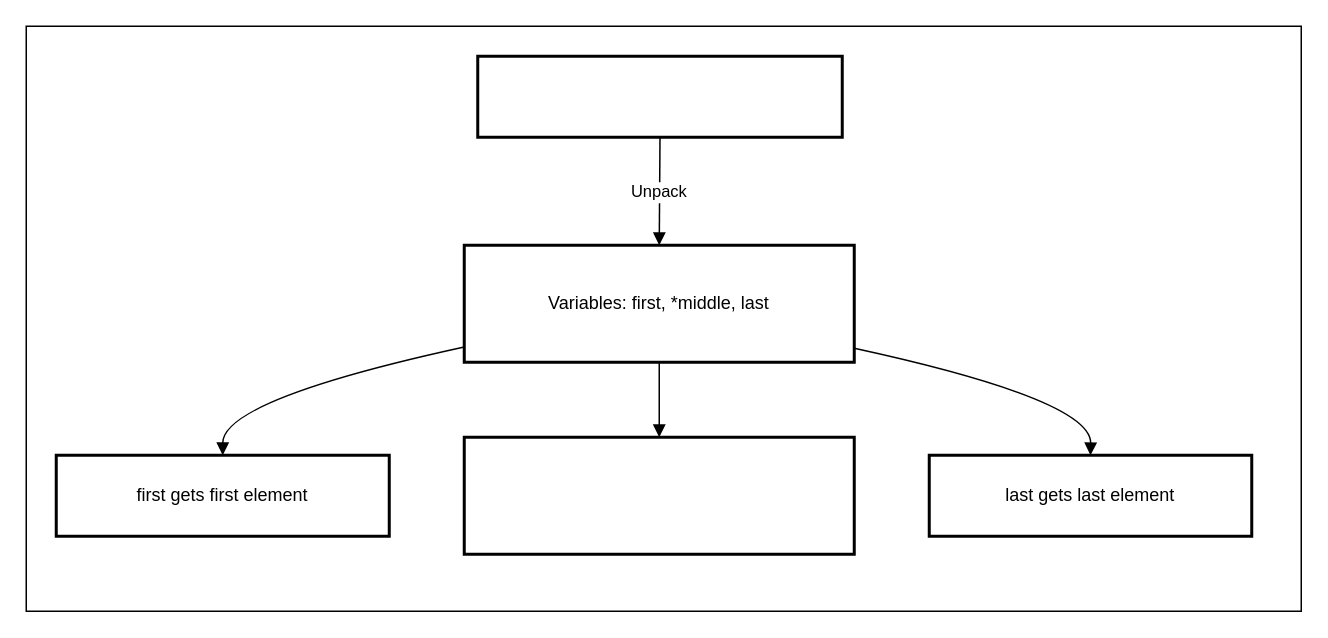
Some shapes in this 1328 by 638 pixel diagram are drawn without their labels. The shapes that lost their labels are listed below. From the top down, each one's centre as x and y in pixels, then its label:
At [659,96]: "Iterable e.g. List or Tuple".
At [658,495]: "middle gets list of intermediates".
